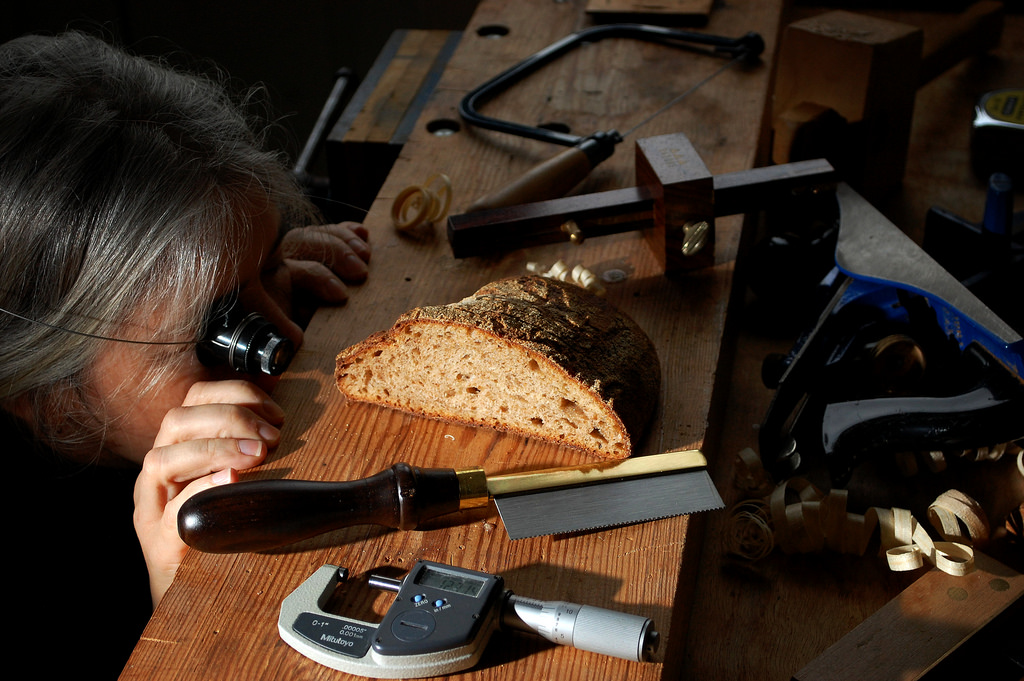slice of bread: (330, 282, 678, 461)
